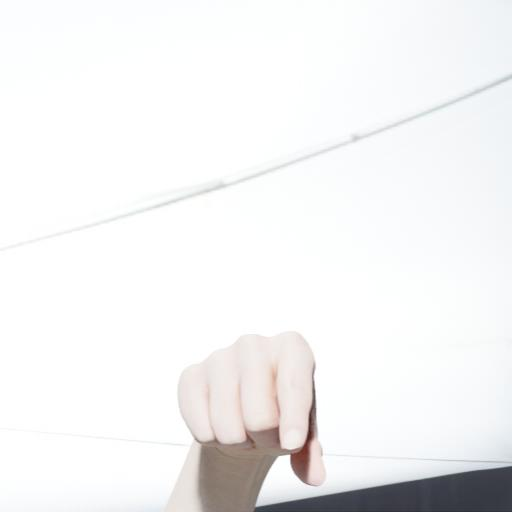Q: (167, 319, 331, 493)
